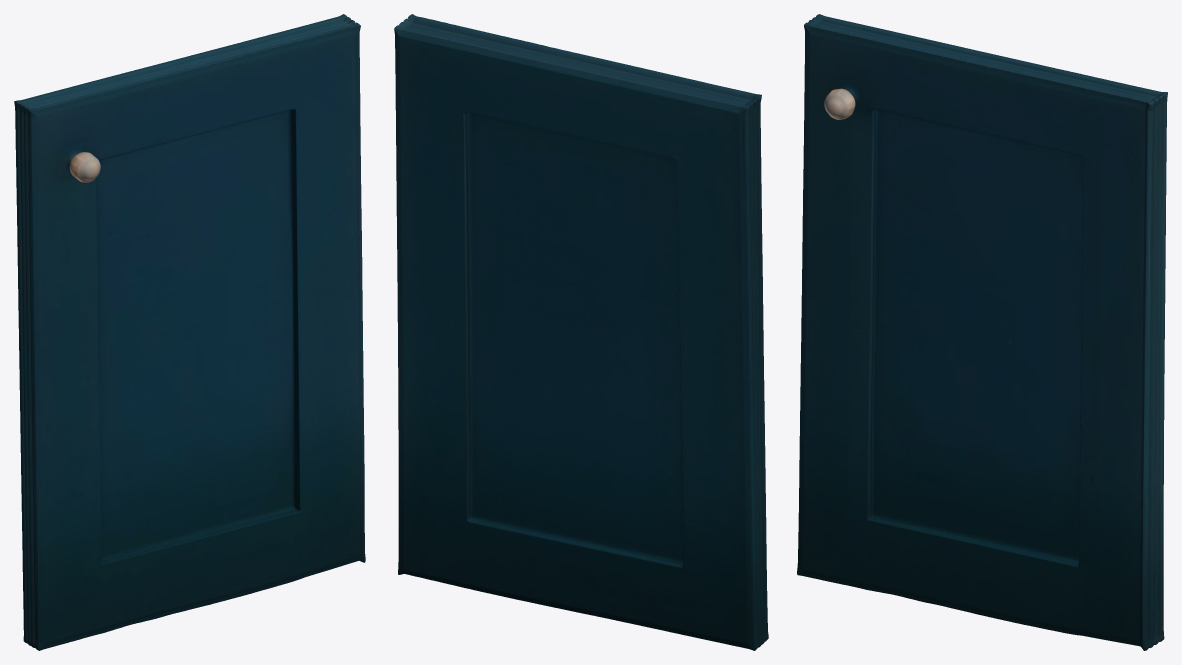
The picture shows the model from 3 angles, left to right: view 1: azimuth 30°, elevation 25°; view 2: azimuth 150°, elevation 25°; view 3: azimuth 330°, elevation 25°; orthographic projection. The views are drawn at different scales.
Visible parts, largest first — view 1: material; view 2: material; view 3: material.
Part boxes in pixels (x1=…): material: x1=14, y1=14, x2=365, y2=650; material: x1=394, y1=14, x2=768, y2=650; material: x1=797, y1=14, x2=1167, y2=650.
Size of the model in its own units: 0.6607 by 1 by 0.1354.
1 material, 1 textured.
